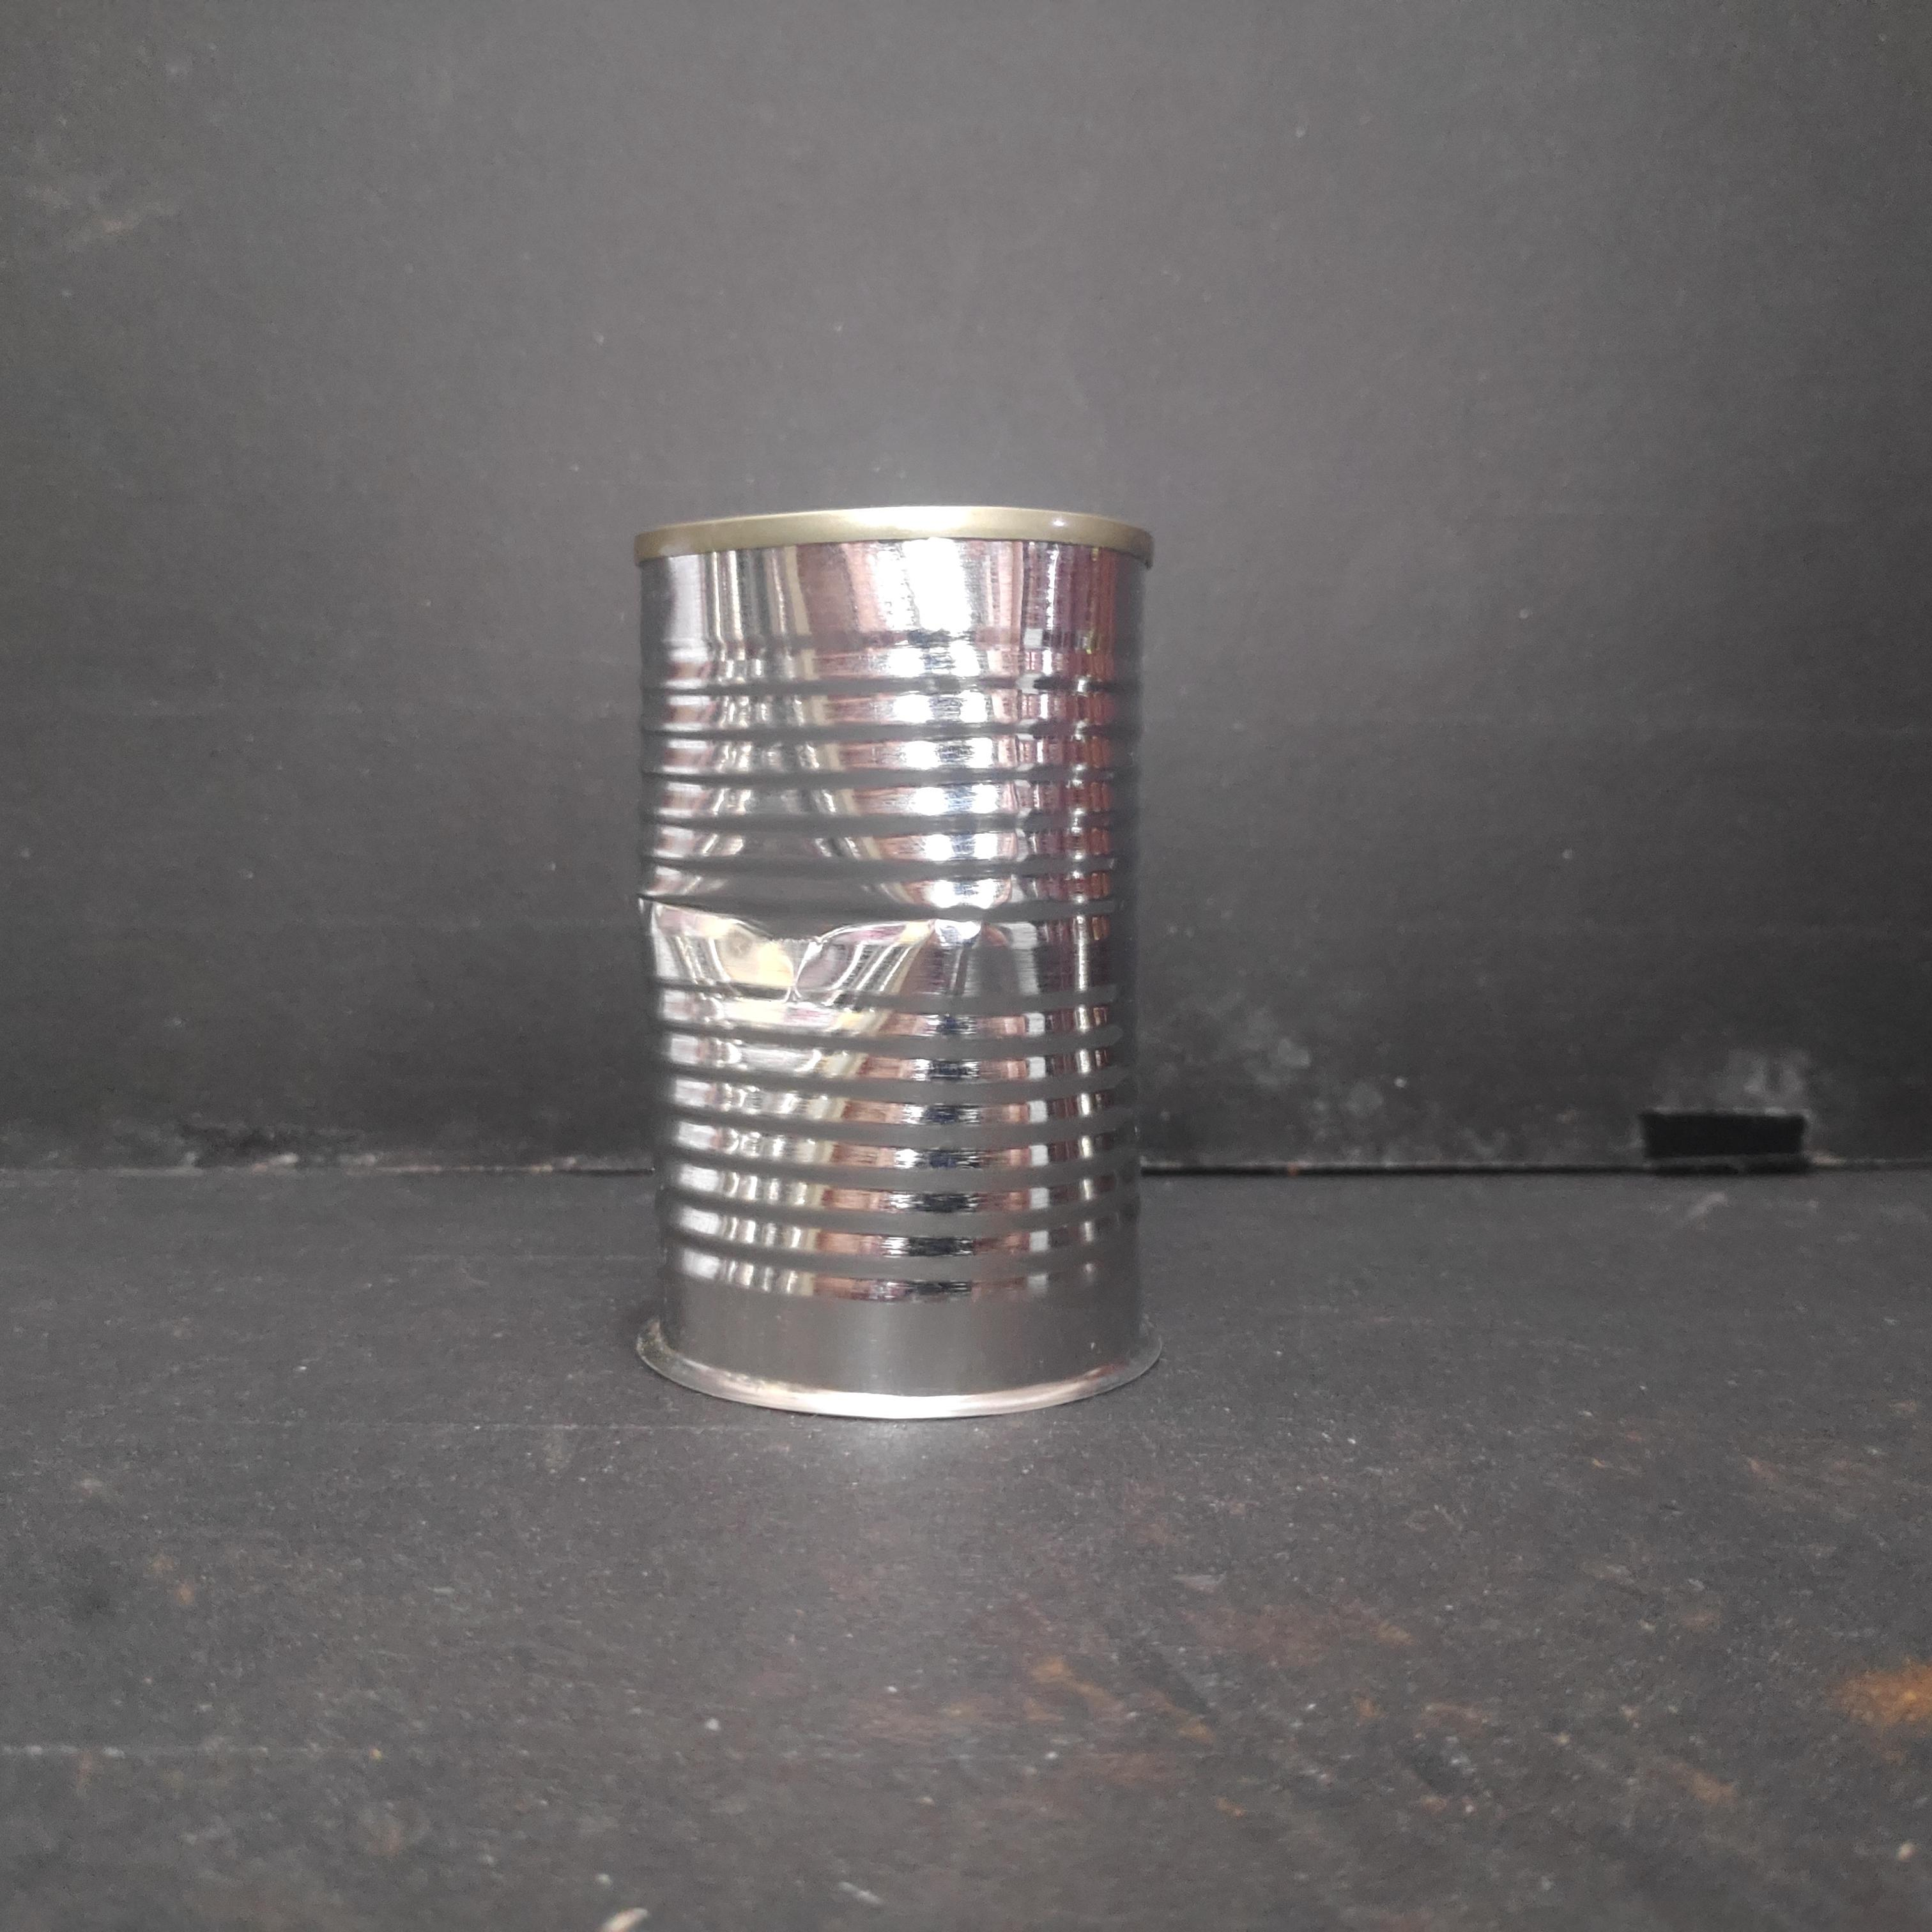Minor Defect: (617, 495, 1168, 1428)
